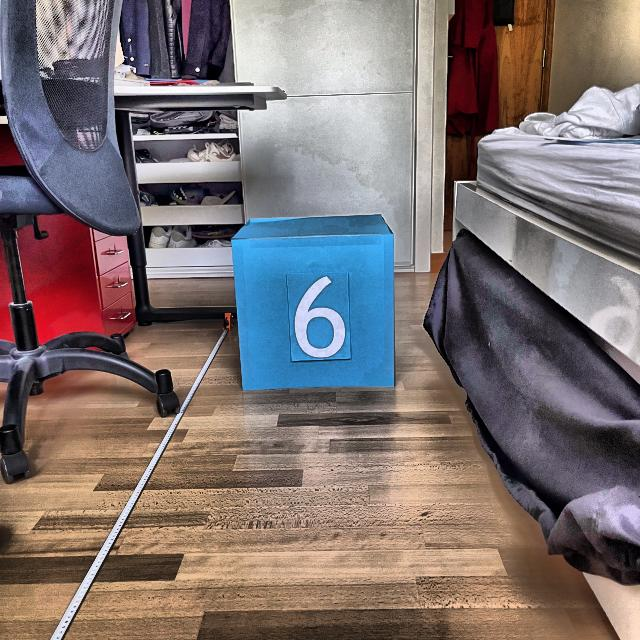blue box: (228, 212, 400, 394)
six: (291, 274, 348, 361)
